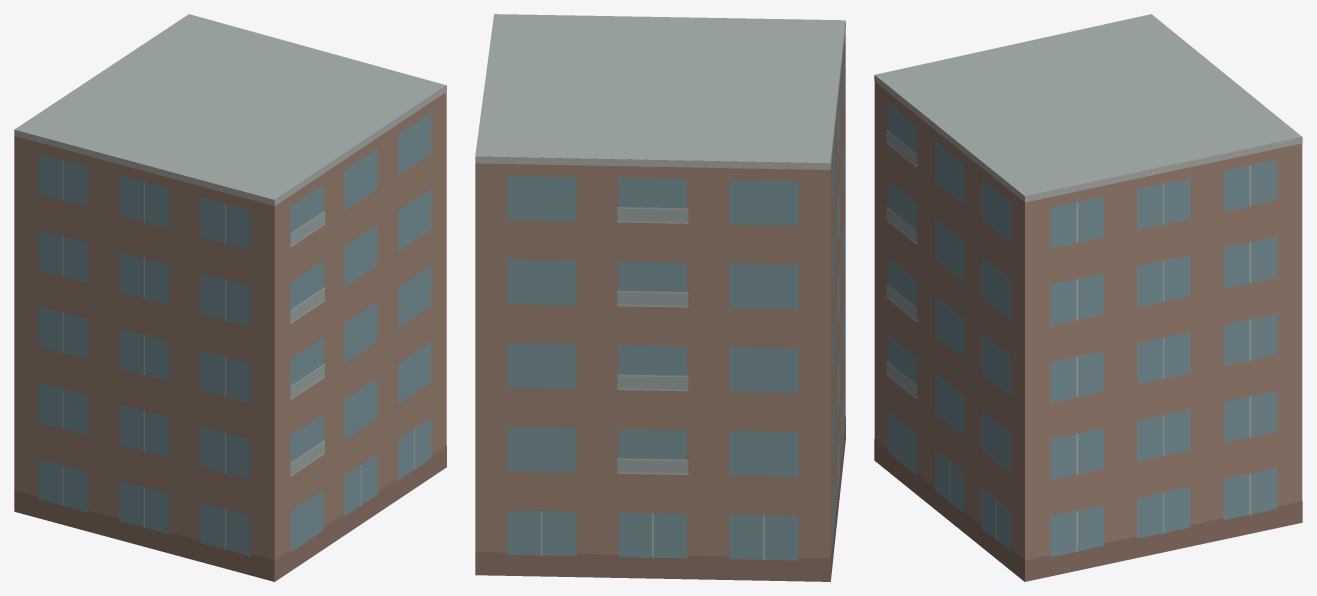
File: survey-upis-32841629.glb
The picture shows the model from 3 angles, left to right: view 1: azimuth 30°, elevation 25°; view 2: azimuth 150°, elevation 25°; view 3: azimuth 270°, elevation 25°; orthographic projection. The views are drawn at different scales.
Visible parts, largest first — view 1: survey-upis-32841629.tmp; view 2: survey-upis-32841629.tmp; view 3: survey-upis-32841629.tmp.
Part boxes in pixels (bbox=[...]): survey-upis-32841629.tmp: bbox=[14, 14, 446, 581]; survey-upis-32841629.tmp: bbox=[475, 14, 845, 581]; survey-upis-32841629.tmp: bbox=[874, 14, 1302, 581].
Size of the model in its own units: 15 by 14.8 by 14.89.
